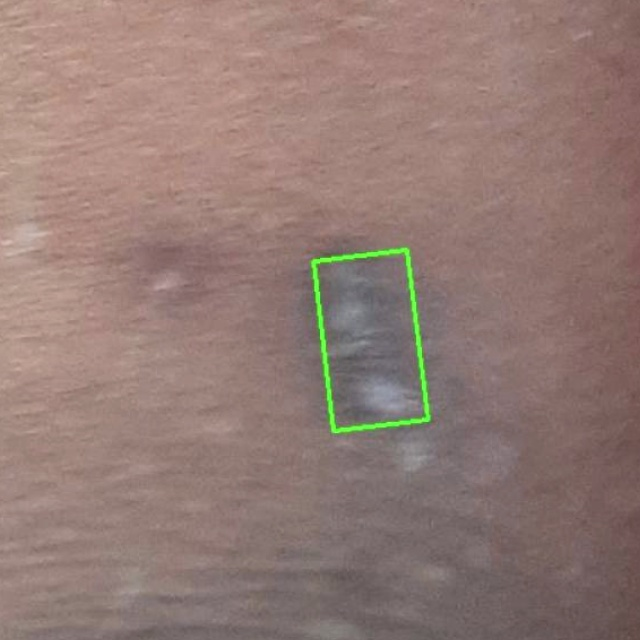Scabies: (313, 250, 427, 430)
